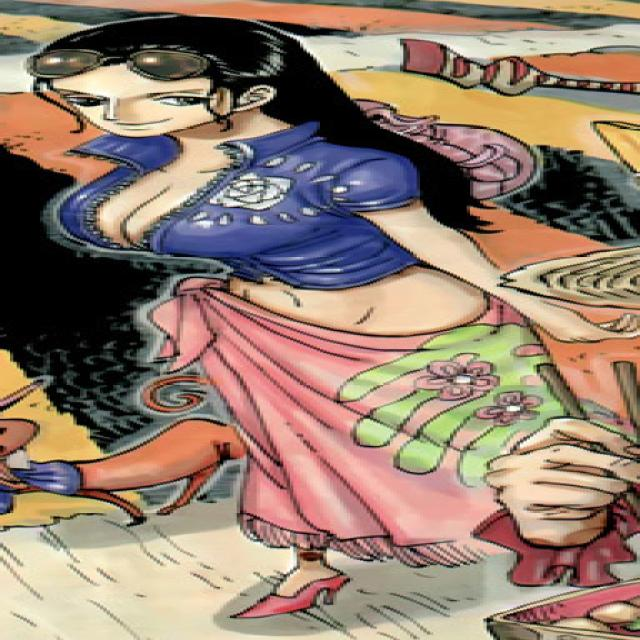Robin: (33, 14, 587, 618)
